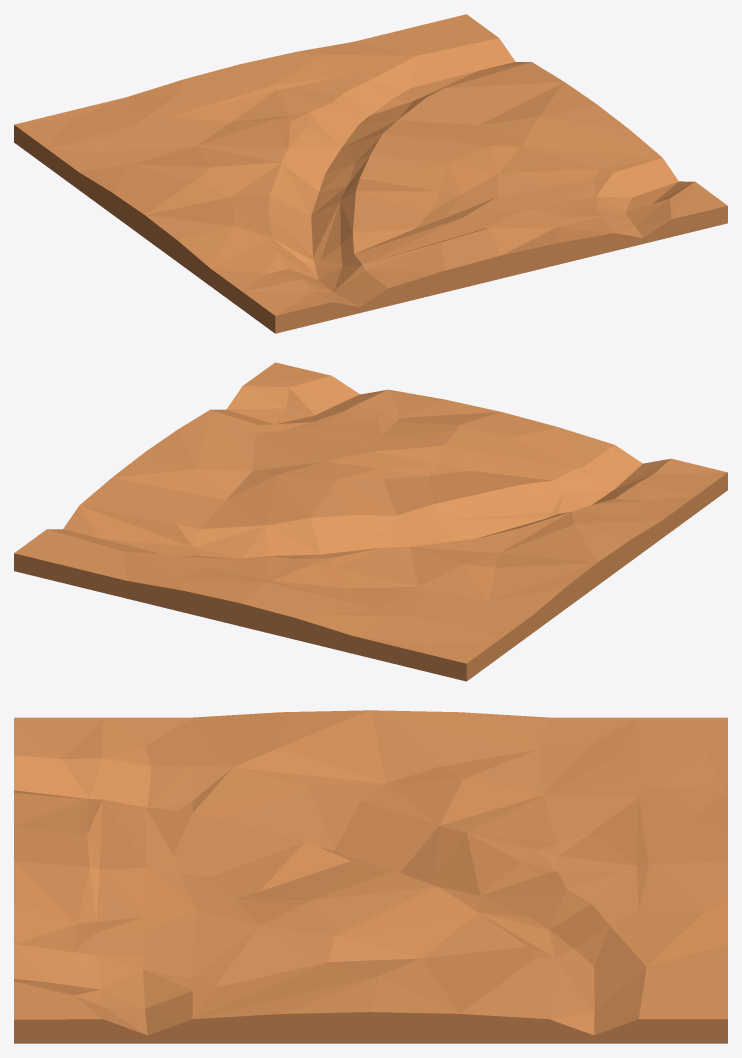
File: Road_part_2.FBX
3 views of the same model, one above another, from view 1: azimuth 30°, elevation 25°; view 2: azimuth 150°, elevation 25°; view 3: azimuth 270°, elevation 25° (orthographic). The views are drawn at different scales.
Parts seen in each view (by area): view 1: Road_part_2; view 2: Road_part_2; view 3: Road_part_2.
Boxes of the visible parts, box(x1,y1,x2,y2) form: Road_part_2: box(14, 14, 727, 333); Road_part_2: box(14, 362, 727, 681); Road_part_2: box(14, 710, 727, 1043).
Bounding box in the file's own units: 1.5 × 0.1045 × 1.5.
1 material, 1 textured.
